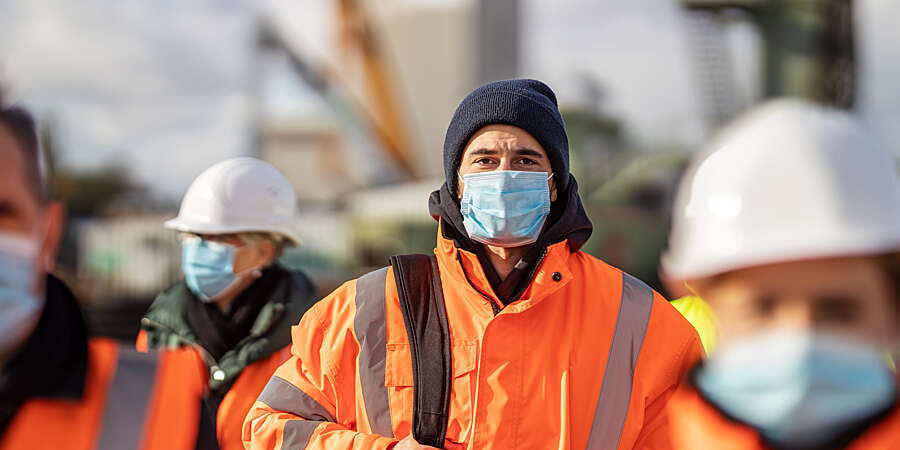Helmet: (644, 89, 900, 286), (165, 149, 314, 249)
Mask: (695, 322, 895, 442), (451, 169, 563, 247), (177, 237, 249, 303)
Safety_Jacket: (237, 246, 713, 450), (135, 279, 318, 450), (9, 335, 206, 450)
